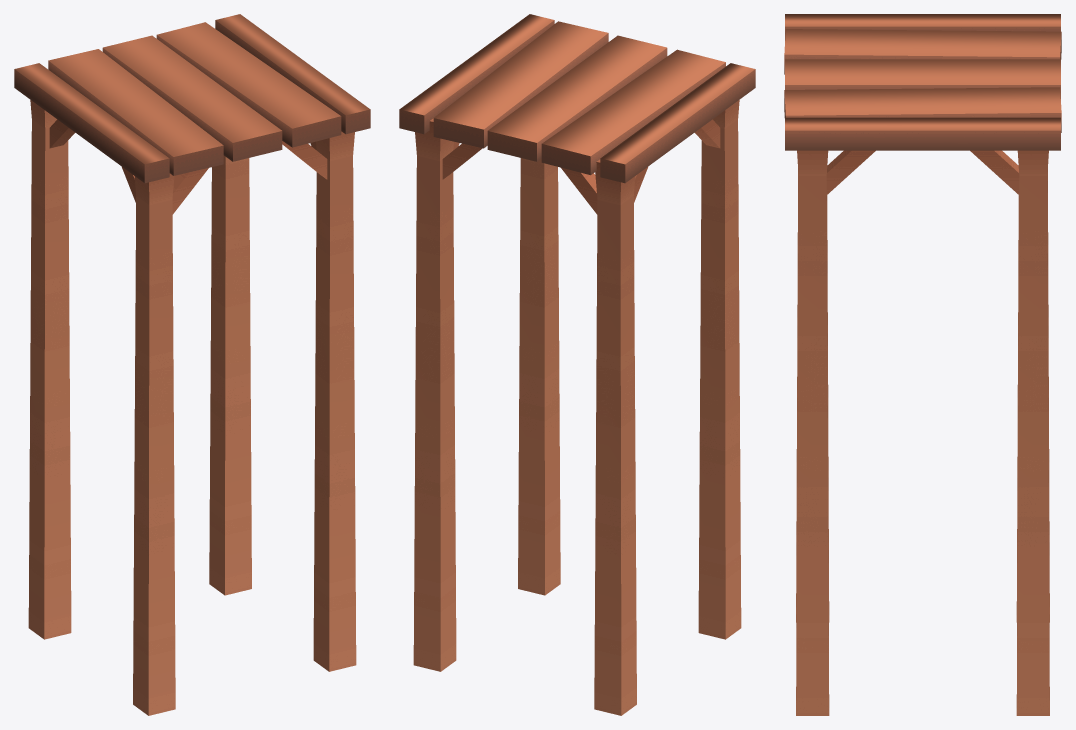
Rendered from structure-plateform-long.glb.
3 renders of one model, left to right at view 1: azimuth 30°, elevation 25°; view 2: azimuth 150°, elevation 25°; view 3: azimuth 270°, elevation 25°, orthographic. The views are drawn at different scales.
Parts seen in each view (by area): view 1: structure-platform-dock; view 2: structure-platform-dock; view 3: structure-platform-dock.
Boxes of the visible parts, <box> form: structure-platform-dock: <box>14,14,370,715</box>; structure-platform-dock: <box>399,14,755,715</box>; structure-platform-dock: <box>784,14,1061,715</box>.
Size of the model in its own units: 2.5 by 5.9 by 2.51.
1 material, 1 textured.
